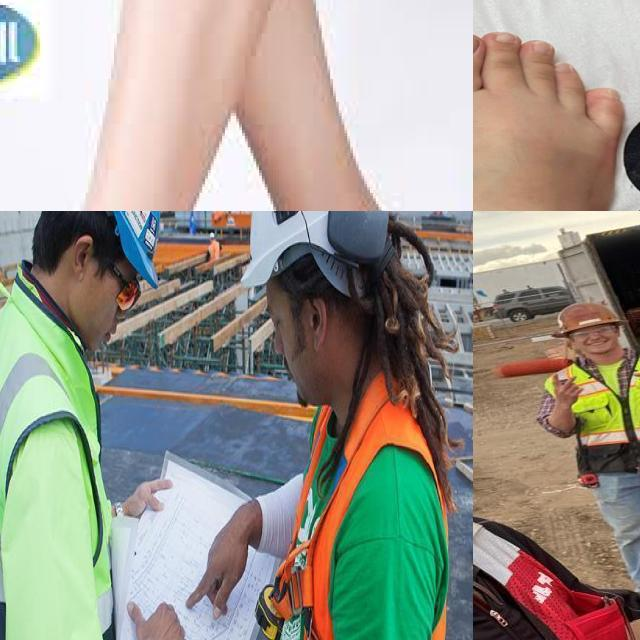Barefoots: (473, 28, 630, 211)
No_Ear-Protection: (308, 287, 330, 356), (68, 228, 94, 284)
Sandals: (0, 149, 473, 211)
face_nomask: (63, 211, 138, 362), (251, 289, 320, 416), (572, 326, 621, 350)
glasses: (113, 278, 144, 316), (564, 326, 624, 343)
hand_noglove: (196, 487, 261, 628), (126, 473, 172, 538), (132, 591, 187, 640), (543, 372, 591, 409), (626, 358, 640, 398)
head_helmet: (241, 211, 378, 293), (41, 211, 163, 285), (549, 302, 628, 337)
person: (233, 211, 445, 640), (0, 211, 171, 640), (473, 255, 634, 640), (530, 293, 640, 618)
vest: (0, 276, 117, 640), (473, 504, 640, 640), (552, 354, 640, 473)
